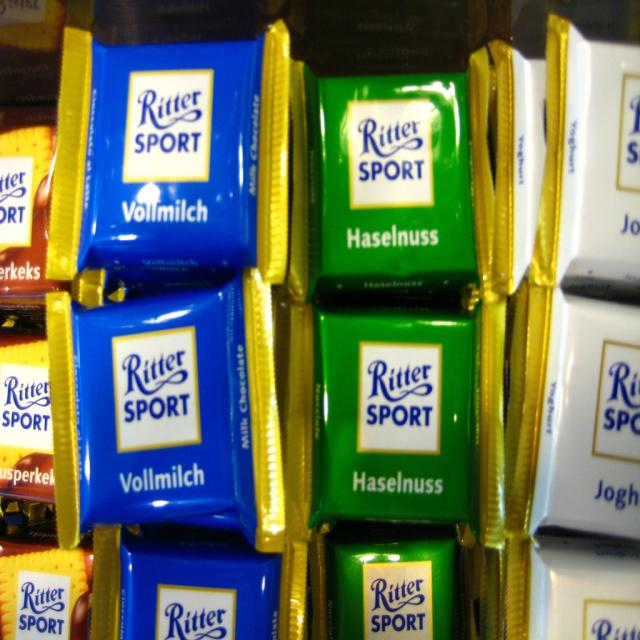rittersport: (113, 329, 201, 453), (122, 67, 212, 183), (347, 100, 436, 210), (358, 342, 443, 453), (361, 560, 437, 640), (594, 338, 640, 464), (2, 361, 56, 451), (159, 584, 235, 640), (17, 570, 70, 640), (2, 152, 34, 253)
